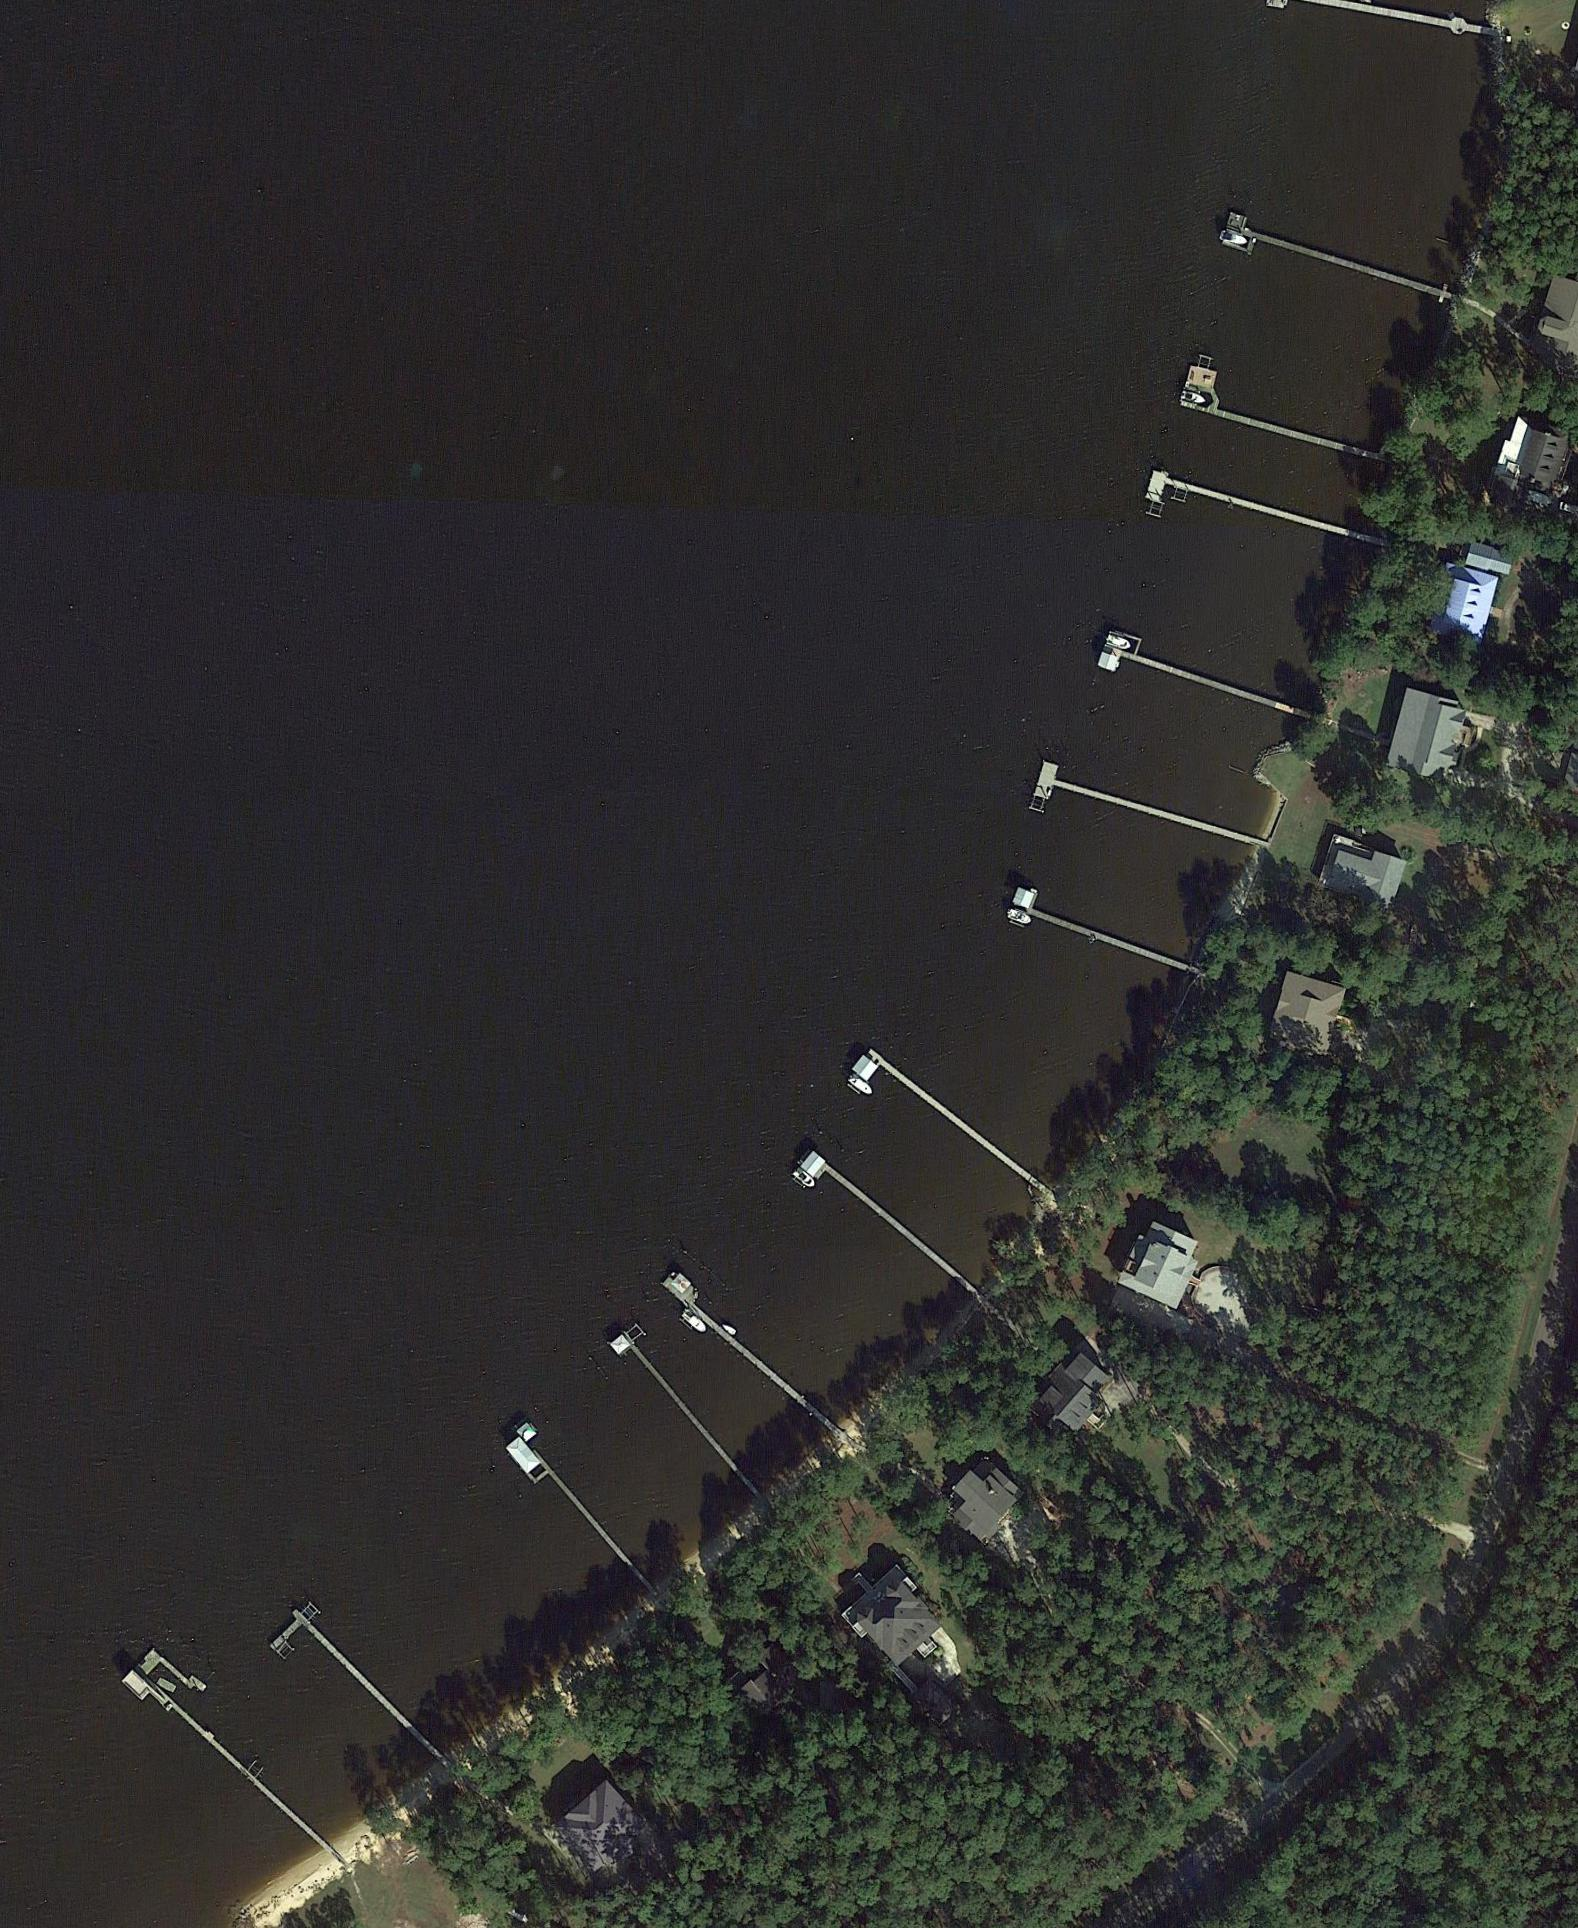harbor: (123, 1646, 341, 1858), (261, 1597, 449, 1785), (797, 1148, 981, 1312), (609, 1322, 765, 1502), (853, 1046, 1033, 1201), (662, 1270, 836, 1426), (505, 1434, 651, 1603), (1221, 212, 1452, 313), (1097, 628, 1313, 736), (1035, 761, 1263, 860), (1145, 470, 1370, 561), (1180, 364, 1383, 461), (1006, 883, 1193, 984)
ship: (679, 1308, 709, 1336), (846, 1073, 876, 1099), (1216, 229, 1249, 250), (791, 1167, 819, 1191), (1004, 906, 1035, 927), (1103, 633, 1133, 652), (1178, 389, 1206, 405), (155, 1676, 178, 1695), (722, 1324, 739, 1338)
